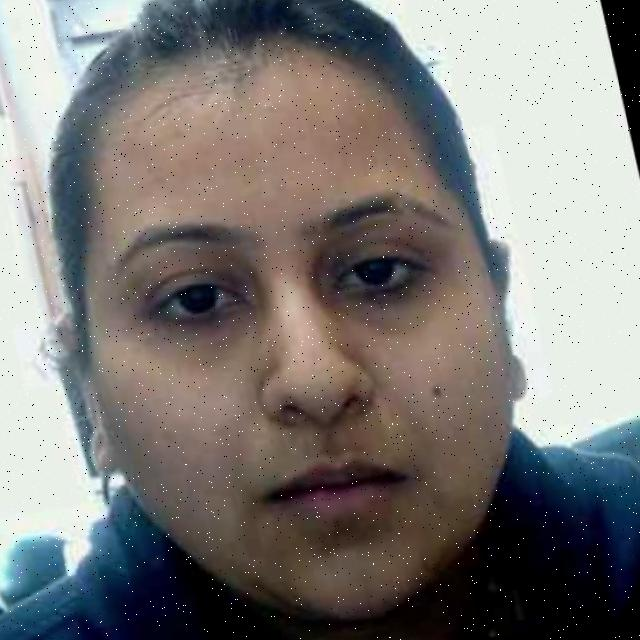puffy_eyes: (147, 305, 252, 346), (328, 282, 423, 323)
